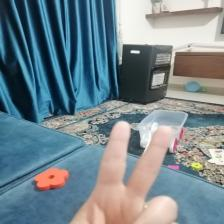two: (86, 120, 180, 223)
